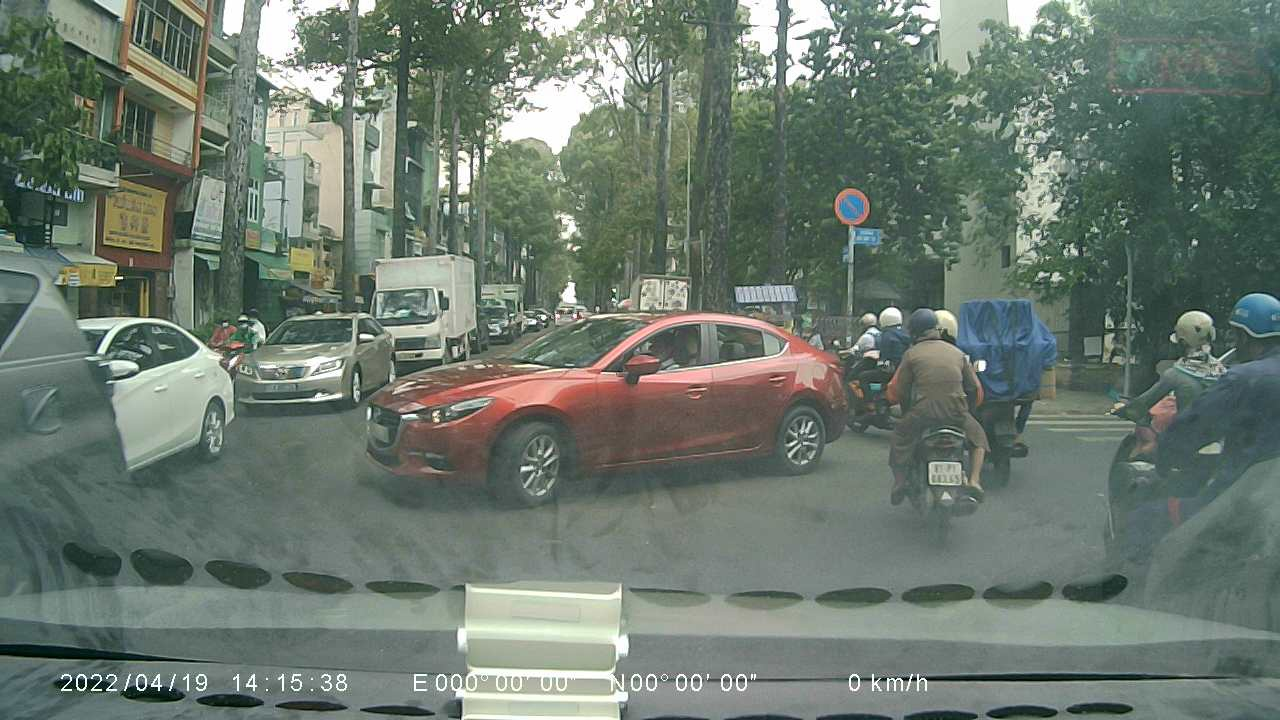Cam do xe: (831, 183, 870, 225)
